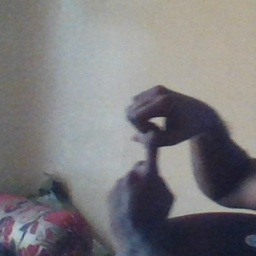Q: (105, 83, 205, 214)
